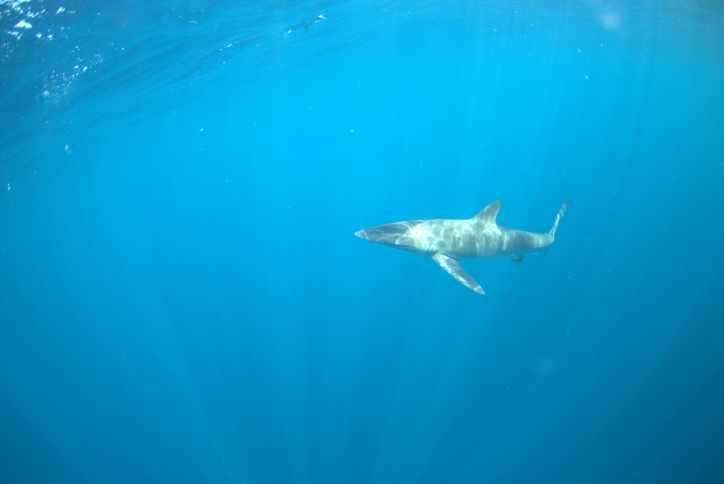Sedoso: (343, 191, 582, 299)
